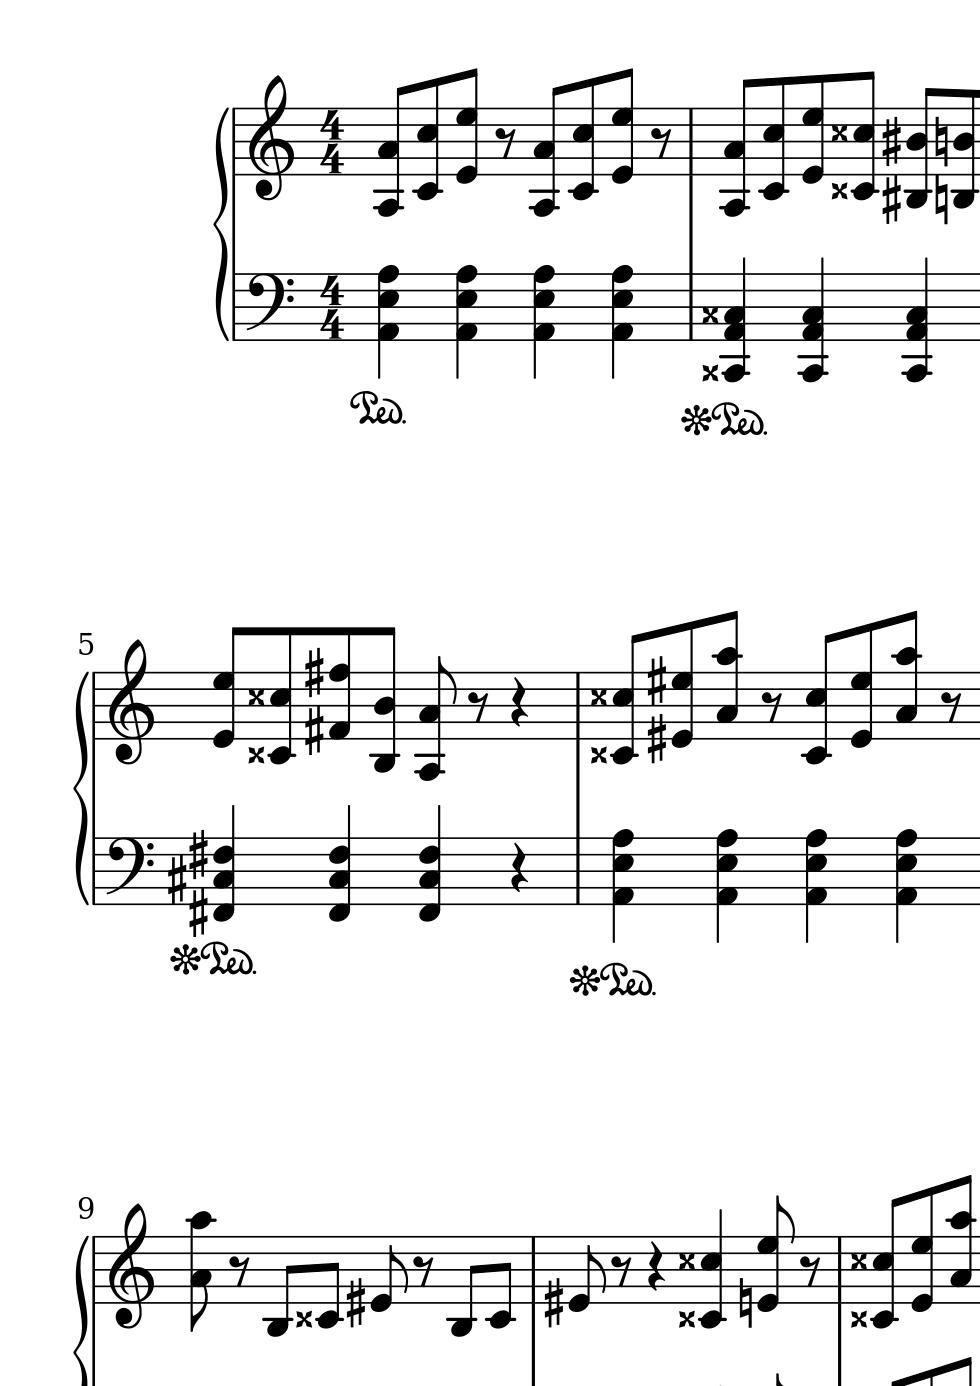4: (317, 106, 347, 141), (318, 271, 346, 308), (317, 142, 347, 175), (317, 308, 345, 339)
4_-2_5: (699, 1209, 730, 1329)
4_th: (719, 255, 753, 384), (798, 256, 829, 383), (902, 256, 933, 382), (799, 826, 830, 948), (449, 259, 480, 380), (527, 261, 559, 381), (607, 825, 637, 946), (889, 825, 920, 946), (711, 824, 740, 947), (373, 260, 404, 378), (417, 802, 445, 926), (326, 804, 354, 924), (607, 260, 634, 383)
5: (77, 629, 95, 657)
8_-1_7: (610, 67, 636, 185), (455, 68, 482, 185), (670, 622, 695, 749), (801, 74, 826, 185)
8_-2: (486, 1234, 515, 1331), (314, 1234, 342, 1331)
8_-2_5: (612, 632, 645, 766), (801, 632, 834, 765), (266, 625, 297, 765), (871, 1195, 903, 1328), (758, 77, 791, 201), (851, 69, 881, 201), (413, 78, 444, 201), (567, 77, 598, 200)
8_-3: (263, 1234, 297, 1339), (447, 1234, 480, 1338)
8_-3_4: (369, 626, 400, 774), (902, 86, 935, 208), (952, 86, 980, 209)
8_-4_3: (415, 654, 459, 780), (720, 78, 755, 217), (374, 85, 410, 218), (529, 84, 565, 217)
8_0: (568, 1234, 603, 1313), (370, 1233, 403, 1313)
8_0_7: (757, 1194, 798, 1312), (211, 625, 243, 749), (851, 624, 877, 748), (911, 1188, 937, 1313)
8_1_8: (327, 626, 353, 741)
8_3_10: (891, 610, 927, 740), (185, 1210, 218, 1332), (714, 609, 743, 740), (948, 1174, 977, 1306)
9: (77, 1194, 94, 1221)
Brace: (211, 105, 230, 343), (73, 672, 91, 906), (72, 1234, 90, 1386)
DSharp: (587, 687, 611, 709), (848, 1306, 871, 1331), (676, 1249, 699, 1271), (848, 1250, 871, 1274), (244, 686, 265, 709), (589, 742, 609, 767), (245, 743, 266, 765), (677, 1308, 697, 1330), (699, 363, 721, 383), (829, 180, 850, 201), (677, 1308, 698, 1328), (294, 1309, 313, 1330), (829, 121, 848, 142), (701, 304, 720, 326), (700, 364, 720, 383), (244, 744, 264, 764), (832, 179, 848, 201), (246, 689, 265, 708), (590, 745, 609, 765), (848, 1253, 868, 1271), (848, 1310, 868, 1328), (678, 1252, 695, 1273), (830, 125, 850, 142), (590, 687, 607, 706), (701, 308, 718, 324)
Fclef: (103, 836, 155, 908), (243, 271, 293, 343)
Gclef: (106, 638, 156, 766), (246, 73, 295, 203), (106, 1201, 155, 1330)
Natural: (736, 1276, 754, 1330), (932, 173, 949, 226), (932, 116, 949, 166)
Rests4: (506, 841, 530, 896), (507, 676, 529, 730), (644, 1240, 665, 1294)
Rests8: (759, 689, 785, 725), (466, 690, 491, 725), (493, 125, 518, 161), (649, 125, 673, 161), (798, 1253, 822, 1289), (412, 1253, 435, 1291), (939, 689, 963, 724), (227, 1253, 251, 1288), (610, 1253, 633, 1289)
Sharp: (185, 828, 210, 880), (541, 1275, 564, 1329), (878, 115, 902, 168), (301, 646, 325, 699), (644, 654, 667, 707), (645, 712, 667, 765), (344, 1277, 366, 1330), (301, 705, 323, 757), (880, 174, 902, 226), (188, 887, 208, 937), (167, 857, 186, 907)
Single_barline: (568, 673, 587, 740), (568, 838, 587, 905), (523, 1236, 541, 1303), (682, 275, 699, 340), (832, 1236, 847, 1303), (682, 109, 698, 174), (88, 838, 102, 905), (228, 108, 241, 176), (88, 1236, 101, 1304), (228, 274, 241, 340), (88, 673, 101, 740)
TimeSig: (317, 108, 349, 175), (317, 275, 348, 343)
